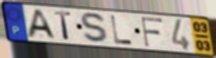4: (171, 18, 192, 52)
A: (25, 9, 58, 41)
F: (140, 16, 165, 48)
L: (109, 14, 134, 46)
S: (79, 12, 111, 45)
T: (53, 10, 74, 42)
